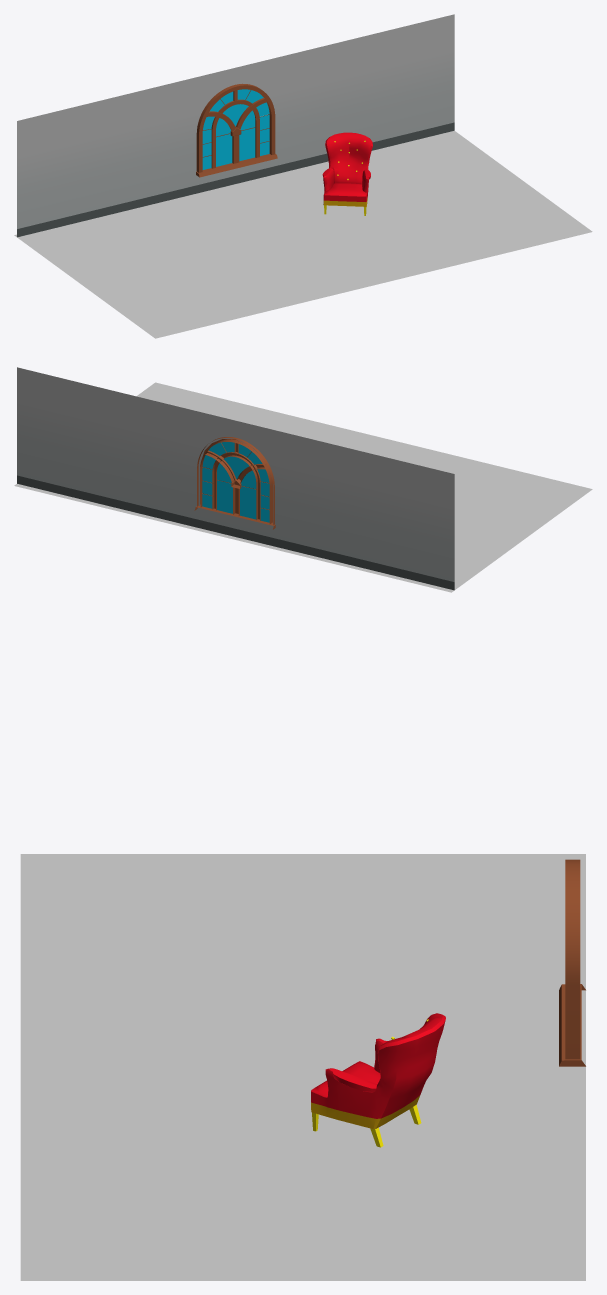
File: window wall.fbx
3 renders of one model, top to bottom at view 1: azimuth 30°, elevation 25°; view 2: azimuth 150°, elevation 25°; view 3: azimuth 270°, elevation 25°, orthographic. The views are drawn at different scales.
Visible parts, largest first — view 1: window Wall, Chair; view 2: window Wall; view 3: window Wall, Chair.
Boxes of the visible parts, box(x1,y1,x2,y2) form: window Wall: box(14, 14, 592, 338); Chair: box(322, 132, 372, 215); window Wall: box(14, 367, 592, 592); window Wall: box(20, 854, 585, 1280); Chair: box(311, 1013, 445, 1147).
Bounding box in the file's own units: 1265 × 328 × 708.
